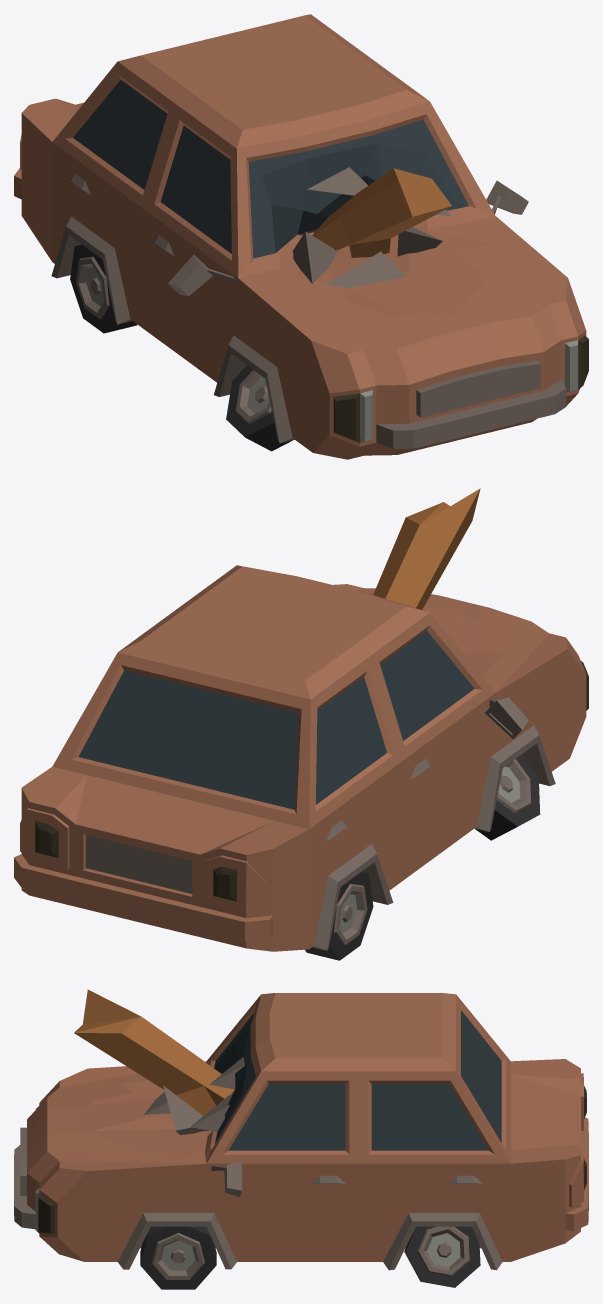
The model's file is LP_PostApoc_Car1.fbx.
3 views of the same model, one above another, from view 1: azimuth 30°, elevation 25°; view 2: azimuth 150°, elevation 25°; view 3: azimuth 270°, elevation 25° (orthographic). The views are drawn at different scales.
Visible parts, largest first — view 1: Car1; view 2: Car1; view 3: Car1.
Part boxes in pixels (<box>): Car1: <box>14,14,588,459</box>; Car1: <box>14,488,588,960</box>; Car1: <box>14,989,588,1289</box>.
Bounding box in the file's own units: 286 × 223 × 491.
